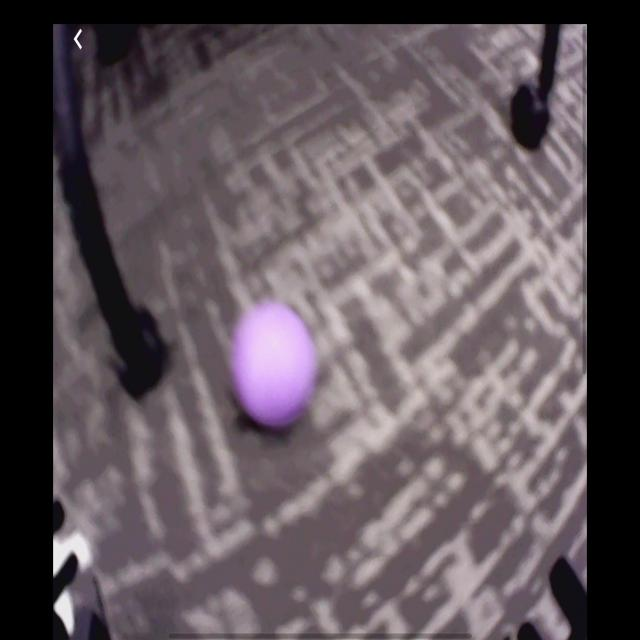ball: (230, 300, 316, 429)
